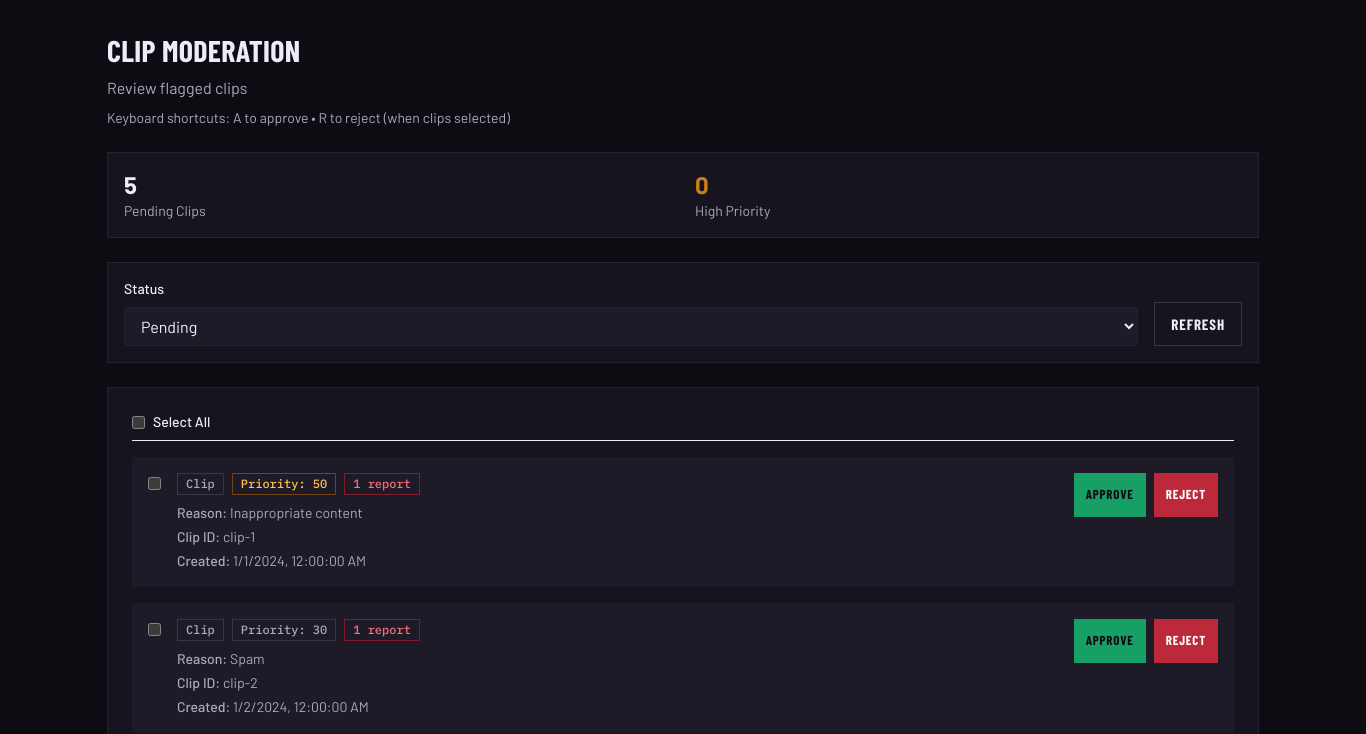
Test: ModerationQueueView › Error Handling › displays error when approve fails
Check: the text "clip-1" is shown, box [223,528,255,545]
Click the button "Approve" in the row of "Inappropriate content" at (1110, 495), box [1074,473,1146,517]
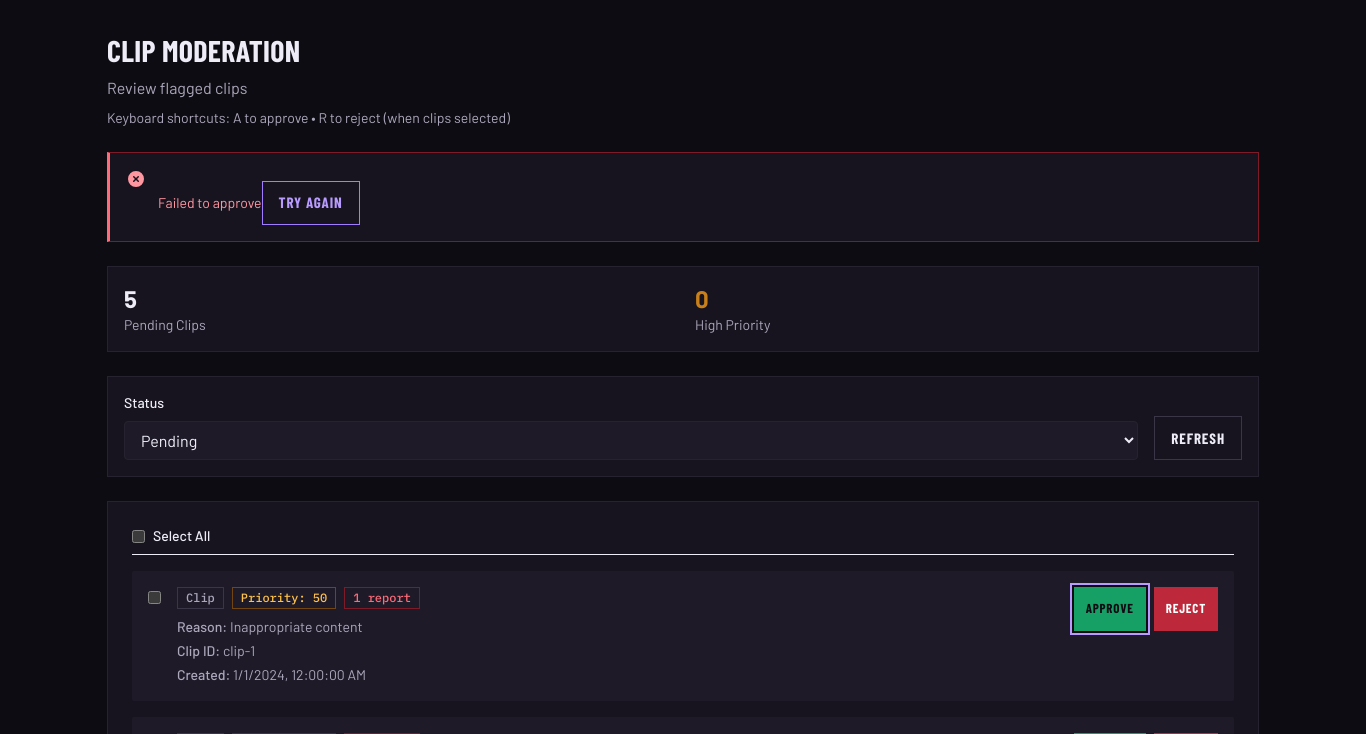
Check: the text "Failed to approve Try again" is shown, box [158,181,360,225]
